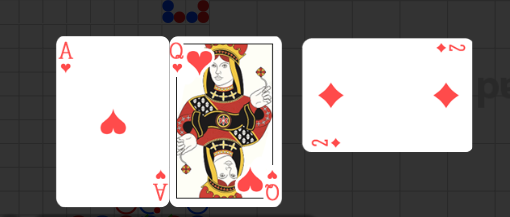2D: (311, 137, 343, 150), (435, 43, 468, 55)
AH: (152, 169, 169, 203)
